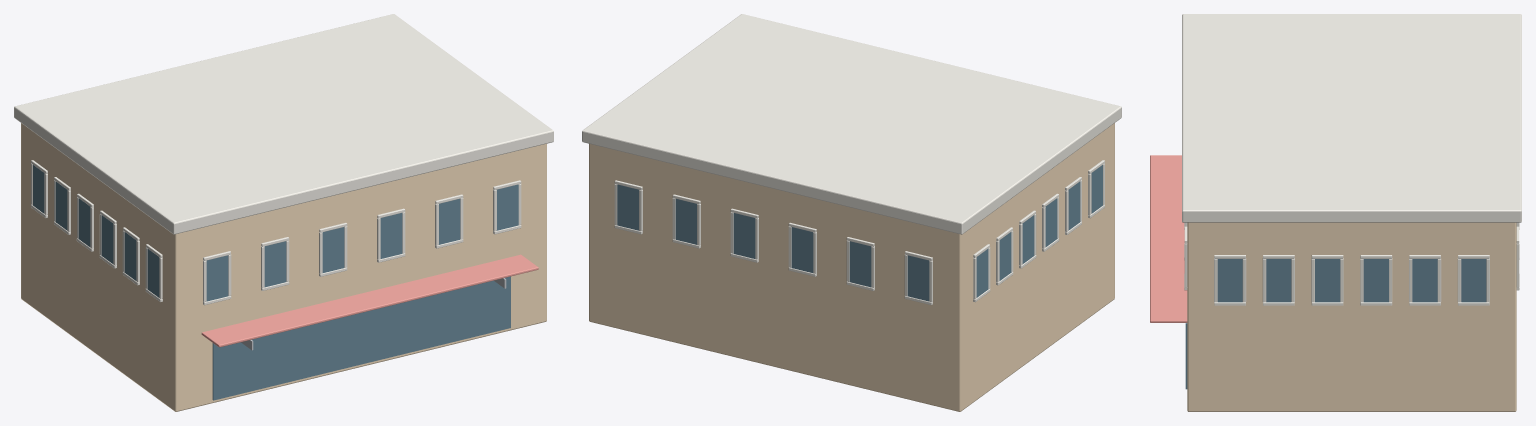
Rendered from bldg_apricot_motel.glb.
The picture shows the model from 3 angles, left to right: view 1: azimuth 30°, elevation 25°; view 2: azimuth 150°, elevation 25°; view 3: azimuth 270°, elevation 25°; orthographic projection. The views are drawn at different scales.
Visible parts, largest first — view 1: bldg_apricot_motel_parapet, bldg_apricot_motel_body, bldg_apricot_motel_shopfront, bldg_apricot_motel_awning, bldg_apricot_motel_upper_back_0_glass, bldg_apricot_motel_upper_back_1_glass, bldg_apricot_motel_upper_back_3_glass, bldg_apricot_motel_upper_back_2_glass, bldg_apricot_motel_upper_back_5_glass, bldg_apricot_motel_upper_back_4_glass, bldg_apricot_motel_upper_right_1_glass, bldg_apricot_motel_upper_right_2_glass (+4 smaller); view 2: bldg_apricot_motel_body, bldg_apricot_motel_parapet, bldg_apricot_motel_upper_front_0_glass, bldg_apricot_motel_upper_front_1_glass, bldg_apricot_motel_upper_front_3_glass, bldg_apricot_motel_upper_front_2_glass, bldg_apricot_motel_upper_front_5_glass, bldg_apricot_motel_upper_front_4_glass, bldg_apricot_motel_upper_right_3_glass, bldg_apricot_motel_upper_right_4_glass, bldg_apricot_motel_upper_right_1_glass, bldg_apricot_motel_upper_right_2_glass (+2 smaller); view 3: bldg_apricot_motel_parapet, bldg_apricot_motel_body, bldg_apricot_motel_awning, bldg_apricot_motel_upper_left_4_glass, bldg_apricot_motel_upper_left_0_glass, bldg_apricot_motel_upper_left_1_glass, bldg_apricot_motel_upper_left_2_glass, bldg_apricot_motel_upper_left_3_glass, bldg_apricot_motel_upper_left_5_glass.
Boxes of the visible parts, left/top/right/bottom form: bldg_apricot_motel_parapet: left=14, top=14, right=553, bottom=234; bldg_apricot_motel_body: left=21, top=123, right=546, bottom=411; bldg_apricot_motel_shopfront: left=212, top=276, right=510, bottom=400; bldg_apricot_motel_awning: left=201, top=254, right=538, bottom=347; bldg_apricot_motel_upper_back_0_glass: left=206, top=255, right=228, bottom=301; bldg_apricot_motel_upper_back_1_glass: left=264, top=241, right=286, bottom=287; bldg_apricot_motel_upper_back_3_glass: left=380, top=213, right=402, bottom=258; bldg_apricot_motel_upper_back_2_glass: left=322, top=227, right=344, bottom=272; bldg_apricot_motel_upper_back_5_glass: left=497, top=184, right=518, bottom=230; bldg_apricot_motel_upper_back_4_glass: left=439, top=199, right=460, bottom=244; bldg_apricot_motel_upper_right_1_glass: left=124, top=232, right=136, bottom=280; bldg_apricot_motel_upper_right_2_glass: left=101, top=215, right=113, bottom=263; bldg_apricot_motel_body: left=589, top=123, right=1114, bottom=411; bldg_apricot_motel_parapet: left=582, top=14, right=1121, bottom=234; bldg_apricot_motel_upper_front_0_glass: left=907, top=255, right=929, bottom=301; bldg_apricot_motel_upper_front_1_glass: left=849, top=241, right=871, bottom=287; bldg_apricot_motel_upper_front_3_glass: left=733, top=213, right=755, bottom=258; bldg_apricot_motel_upper_front_2_glass: left=791, top=227, right=813, bottom=272; bldg_apricot_motel_upper_front_5_glass: left=617, top=184, right=638, bottom=230; bldg_apricot_motel_upper_front_4_glass: left=675, top=199, right=696, bottom=244; bldg_apricot_motel_upper_right_3_glass: left=1022, top=215, right=1034, bottom=263; bldg_apricot_motel_upper_right_4_glass: left=999, top=232, right=1011, bottom=280; bldg_apricot_motel_upper_right_1_glass: left=1068, top=181, right=1080, bottom=230; bldg_apricot_motel_upper_right_2_glass: left=1045, top=198, right=1057, bottom=246; bldg_apricot_motel_parapet: left=1182, top=14, right=1521, bottom=222; bldg_apricot_motel_body: left=1187, top=222, right=1516, bottom=411; bldg_apricot_motel_awning: left=1150, top=155, right=1187, bottom=322; bldg_apricot_motel_upper_left_4_glass: left=1412, top=259, right=1437, bottom=302; bldg_apricot_motel_upper_left_0_glass: left=1217, top=259, right=1242, bottom=302; bldg_apricot_motel_upper_left_1_glass: left=1266, top=259, right=1291, bottom=302; bldg_apricot_motel_upper_left_2_glass: left=1315, top=259, right=1340, bottom=302; bldg_apricot_motel_upper_left_3_glass: left=1363, top=259, right=1388, bottom=302; bldg_apricot_motel_upper_left_5_glass: left=1461, top=259, right=1486, bottom=302.
Bounding box in the file's own units: 18.42 × 8.89 × 14.68.
